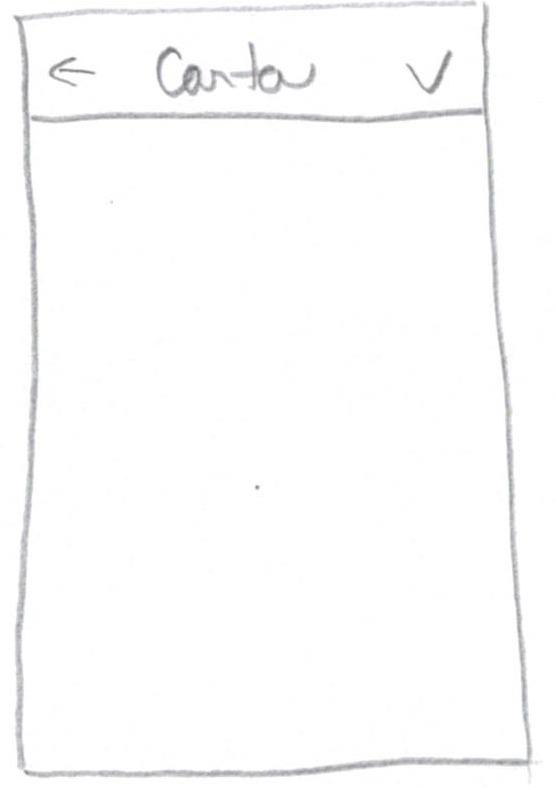Button: (400, 49, 455, 97), (47, 56, 97, 86)
Label: (155, 40, 317, 100)
Screen: (15, 3, 533, 777)
